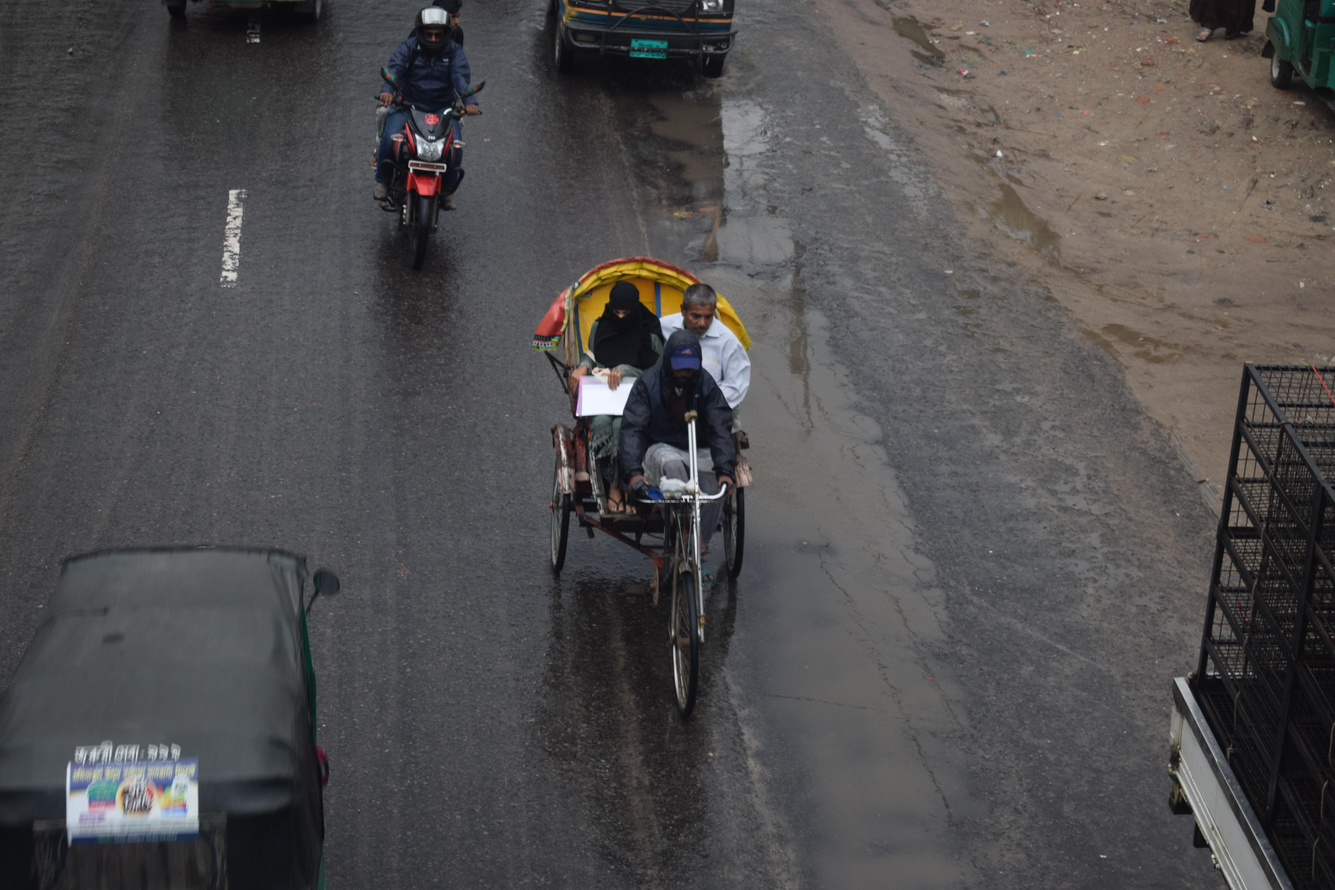Bike: (332, 0, 519, 307)
Car: (459, 214, 851, 750)
